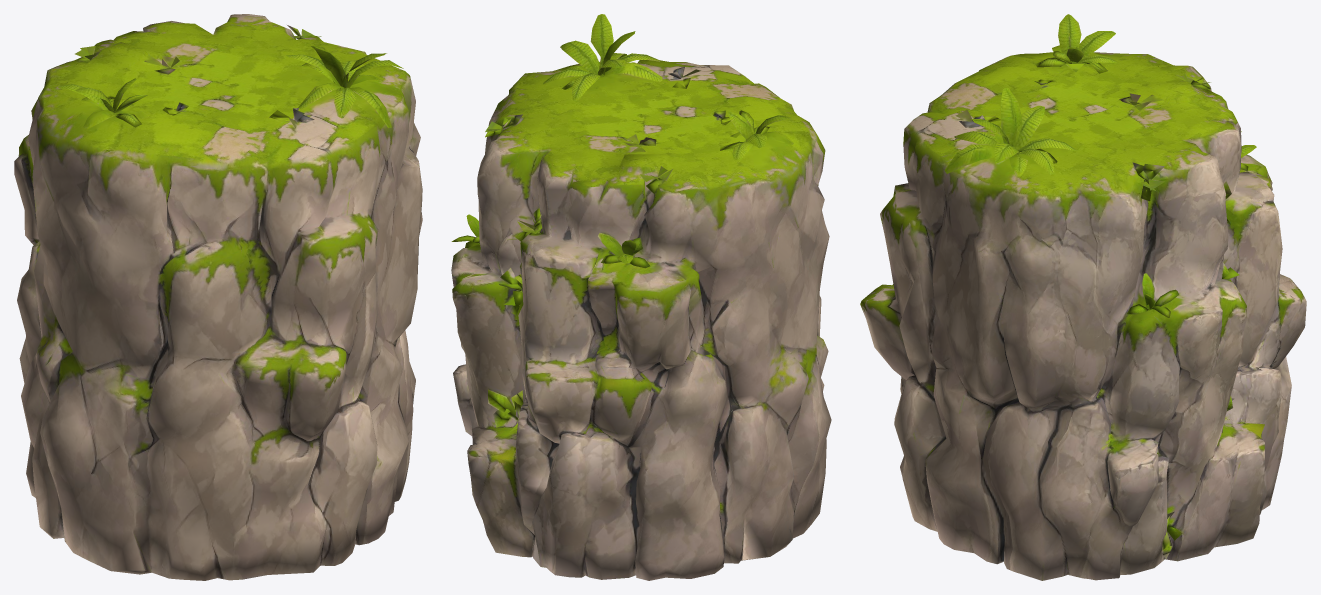
Rendered from CliffRock.fbx.
The picture shows the model from 3 angles, left to right: view 1: azimuth 30°, elevation 25°; view 2: azimuth 150°, elevation 25°; view 3: azimuth 270°, elevation 25°; orthographic projection. The views are drawn at different scales.
Parts seen in each view (by area): view 1: CliffRock; view 2: CliffRock; view 3: CliffRock.
Boxes of the visible parts, <box> form: CliffRock: <box>14,14,422,580</box>; CliffRock: <box>451,14,831,580</box>; CliffRock: <box>860,14,1306,580</box>.
Size of the model in its own units: 0.8068 by 1 by 0.9147.
1 material, 1 textured.
